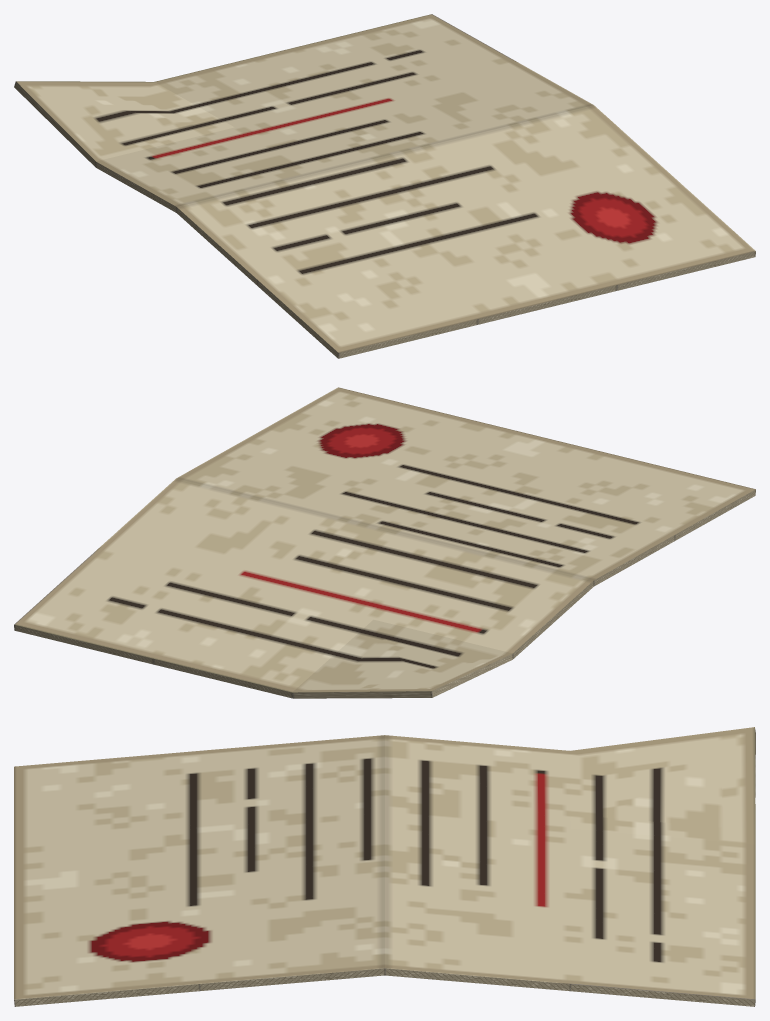
Rendered from Item_Doc_KeyNote.fbx.
3 renders of one model, top to bottom at view 1: azimuth 30°, elevation 25°; view 2: azimuth 150°, elevation 25°; view 3: azimuth 270°, elevation 25°, orthographic. The views are drawn at different scales.
Visible parts, largest first — view 1: Item_Doc_KeyNote; view 2: Item_Doc_KeyNote; view 3: Item_Doc_KeyNote.
Boxes of the visible parts, x1,y1,x2,y2 form: Item_Doc_KeyNote: (14, 14, 755, 358); Item_Doc_KeyNote: (14, 387, 755, 698); Item_Doc_KeyNote: (14, 727, 755, 1006).
Bounding box in the file's own units: 17.53 × 1.64 × 23.53.
